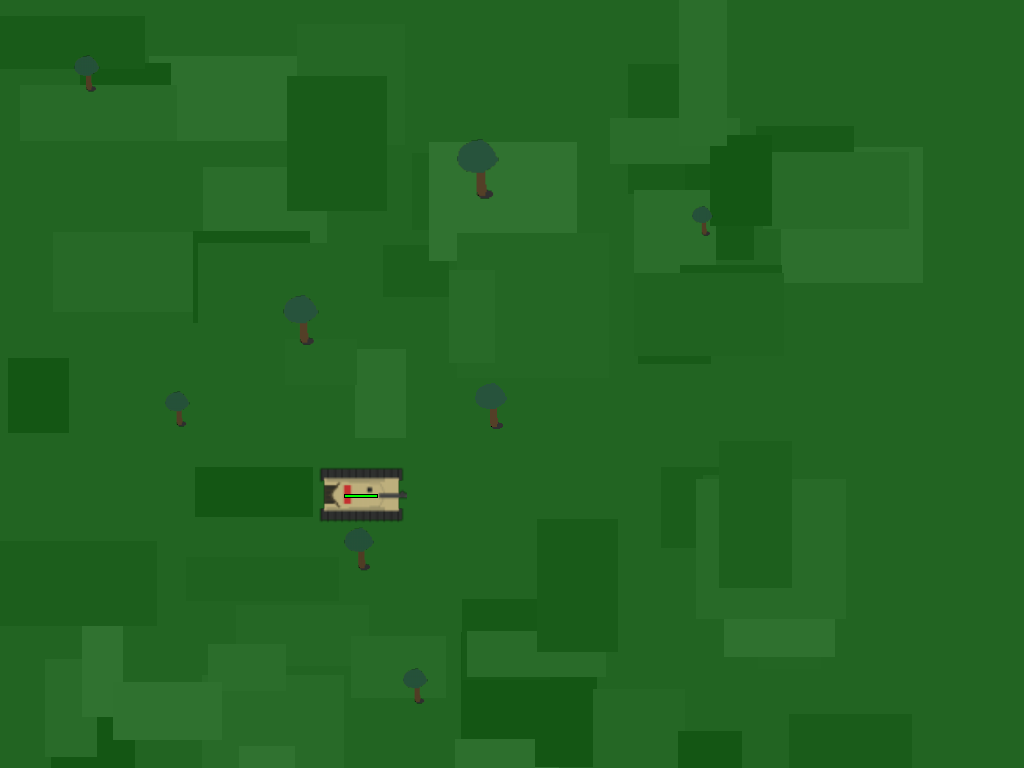WZ10: (322, 455, 399, 532)
